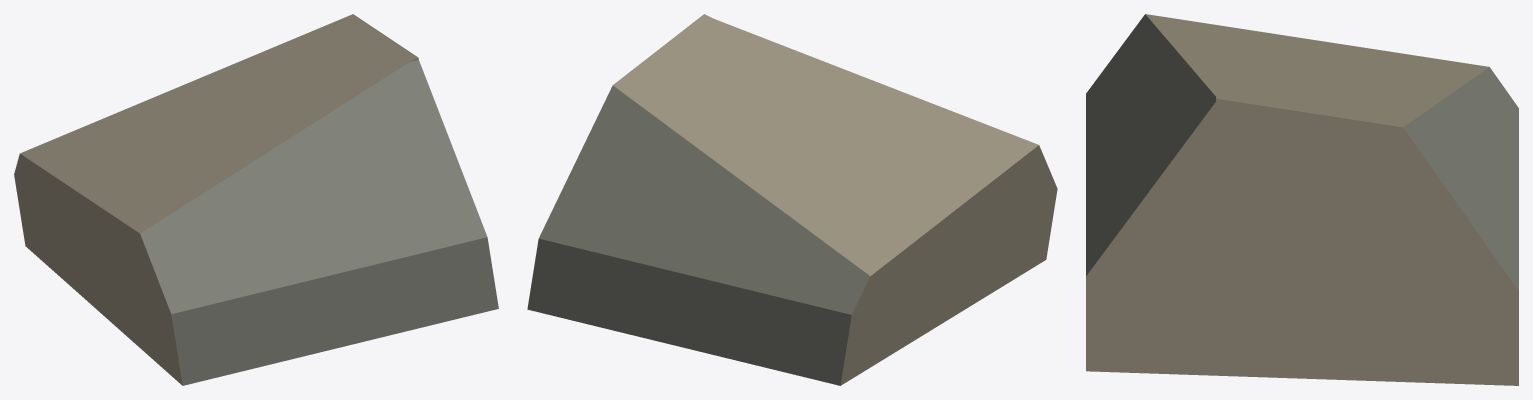
The picture shows the model from 3 angles, left to right: view 1: azimuth 30°, elevation 25°; view 2: azimuth 150°, elevation 25°; view 3: azimuth 270°, elevation 25°; orthographic projection. The views are drawn at different scales.
Parts seen in each view (by area): view 1: concreto_quebra_3; view 2: concreto_quebra_3; view 3: concreto_quebra_3.
Boxes of the visible parts, x1=… form: concreto_quebra_3: x1=14, y1=14, x2=498, y2=385; concreto_quebra_3: x1=527, y1=14, x2=1057, y2=385; concreto_quebra_3: x1=1086, y1=14, x2=1518, y2=385.
Bounding box in the file's own units: 0.9088 × 0.5258 × 0.8.
Materials: 1 (1 with a texture image).
